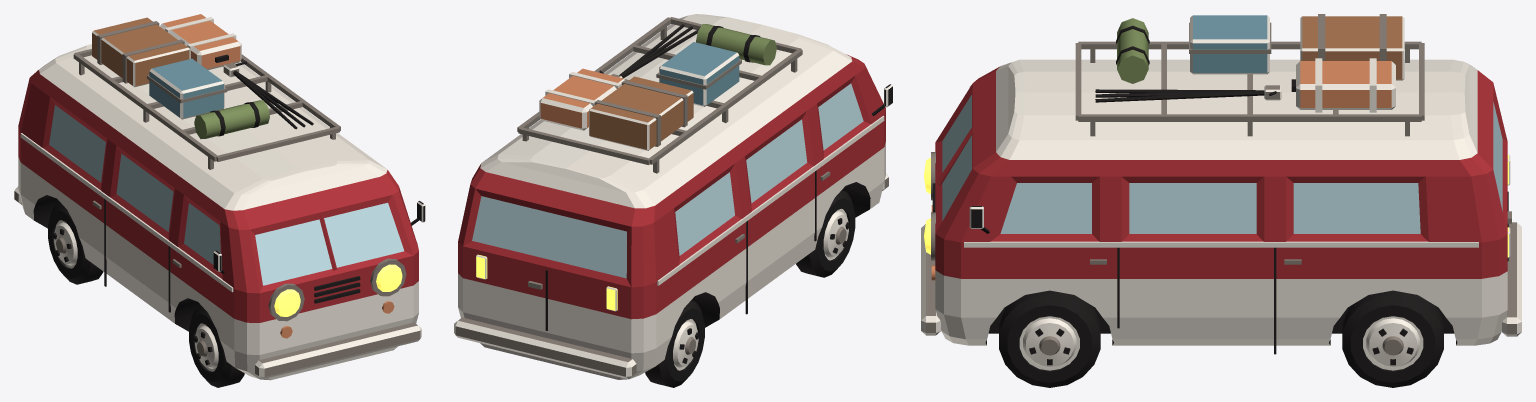
The model's file is van.glb.
3 views of the same model, side by side, from view 1: azimuth 30°, elevation 25°; view 2: azimuth 150°, elevation 25°; view 3: azimuth 270°, elevation 25° (orthographic). The views are drawn at different scales.
Visible parts, largest first — view 1: van_body, wheel_fl, wheel_rl; view 2: van_body, wheel_rl, wheel_fl; view 3: van_body, wheel_fr, wheel_rr.
Boxes of the visible parts, x1,y1,x2,y2 form: van_body: (14,14,425,380); wheel_fl: (189,306,244,387); wheel_rl: (48,203,103,284); van_body: (454,14,892,379); wheel_rl: (645,300,704,387); wheel_fl: (796,190,855,277); van_body: (921,14,1521,354); wheel_fr: (999,290,1100,387); wheel_rr: (1342,290,1443,387).
Bounding box in the file's own units: 2.04 × 2.29 × 4.2.
